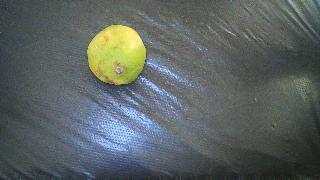DESECHO: (87, 25, 146, 85)
